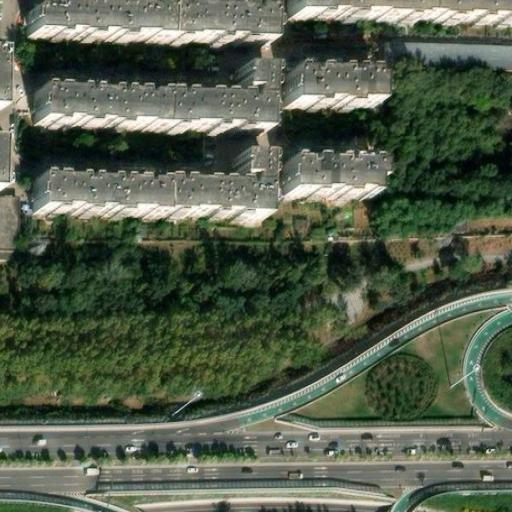building: (39, 70, 275, 134), (36, 156, 271, 220), (30, 0, 275, 45), (291, 0, 512, 25), (287, 159, 384, 198), (381, 41, 512, 69), (287, 78, 379, 113), (0, 198, 21, 265), (0, 40, 13, 105), (0, 129, 12, 185)
